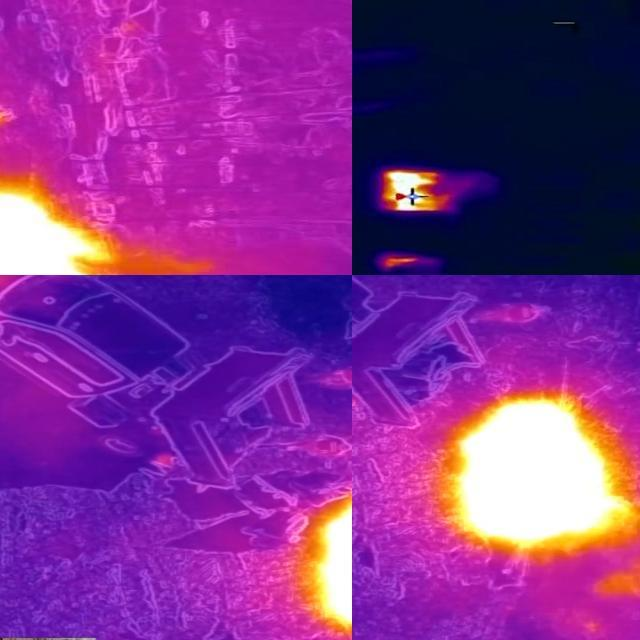fire: (440, 390, 640, 563), (1, 190, 109, 276), (307, 482, 353, 640), (377, 171, 451, 214), (375, 254, 427, 274)
